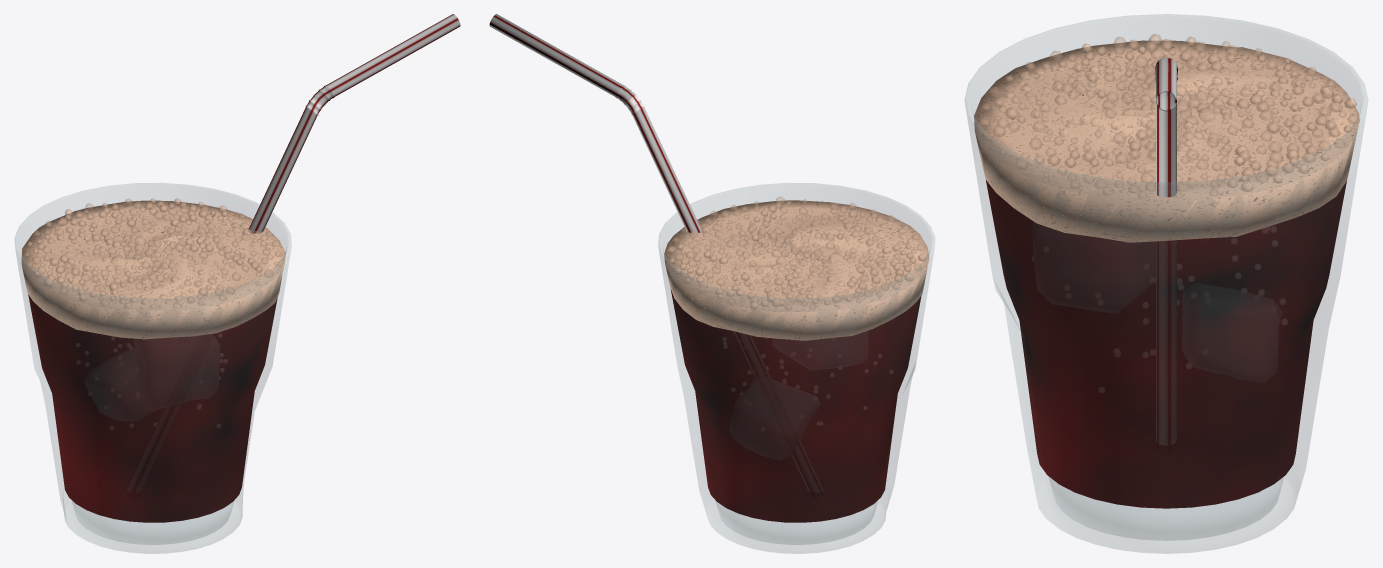
Rendered from 3December2020_Day13_Fizzy_Drink_v1.fbx.
The picture shows the model from 3 angles, left to right: view 1: azimuth 30°, elevation 25°; view 2: azimuth 150°, elevation 25°; view 3: azimuth 270°, elevation 25°; orthographic projection. The views are drawn at different scales.
Visible parts, largest first — view 1: Drink_Glass, Drink_Liquid, Drink_Glass.001, Drink_Foam_Bubbles, Drink_Straw; view 2: Drink_Glass, Drink_Liquid, Drink_Glass.001, Drink_Foam_Bubbles, Drink_Straw; view 3: Drink_Glass, Drink_Liquid, Drink_Glass.001, Drink_Foam_Bubbles, Drink_Straw.
Boxes of the visible parts, box(x1,y1,x2,y2) form: Drink_Glass: box(15, 183, 291, 553); Drink_Liquid: box(28, 232, 277, 522); Drink_Glass.001: box(21, 200, 285, 339); Drink_Foam_Bubbles: box(25, 198, 281, 308); Drink_Straw: box(243, 14, 460, 249); Drink_Glass: box(658, 183, 934, 553); Drink_Liquid: box(670, 232, 921, 522); Drink_Glass.001: box(664, 200, 929, 340); Drink_Foam_Bubbles: box(667, 196, 925, 309); Drink_Straw: box(489, 14, 727, 317); Drink_Glass: box(964, 14, 1368, 553); Drink_Liquid: box(986, 94, 1346, 508); Drink_Glass.001: box(974, 40, 1359, 242); Drink_Foam_Bubbles: box(979, 34, 1360, 197); Drink_Straw: box(1155, 57, 1177, 221).
Bounding box in the file's own units: 236 × 227 × 134.
